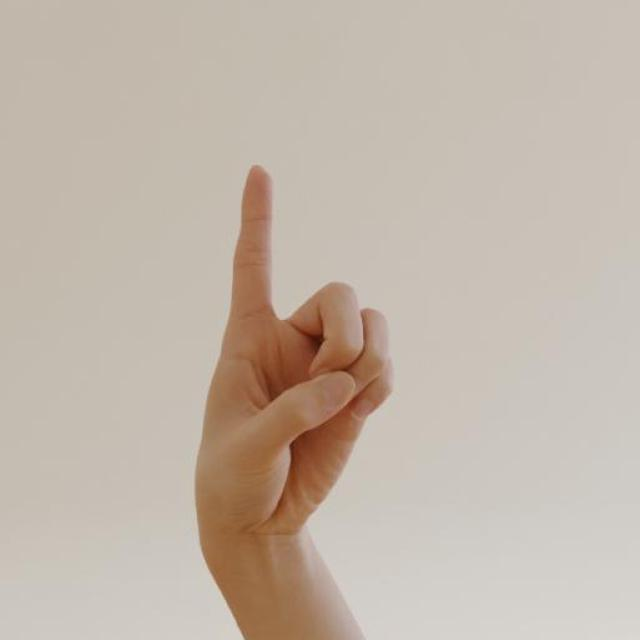D: (188, 158, 398, 567)
